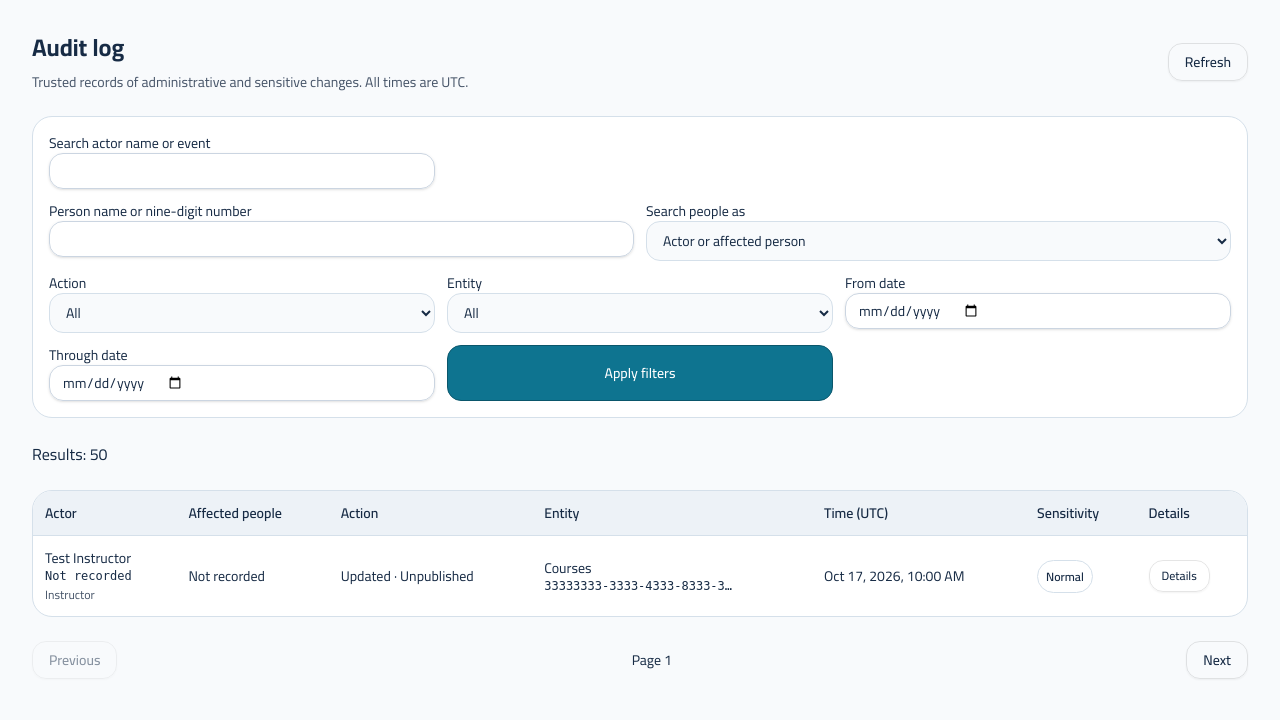
Test: audit review UI › filters on the server and resets pagination without fetching all rows
Check: the text "Test Instructor" is shown, box top-left (45, 545), bottom-right (131, 571)
Click the button "Next". click: (1217, 660)
box: top-left (1186, 641), bottom-right (1248, 679)
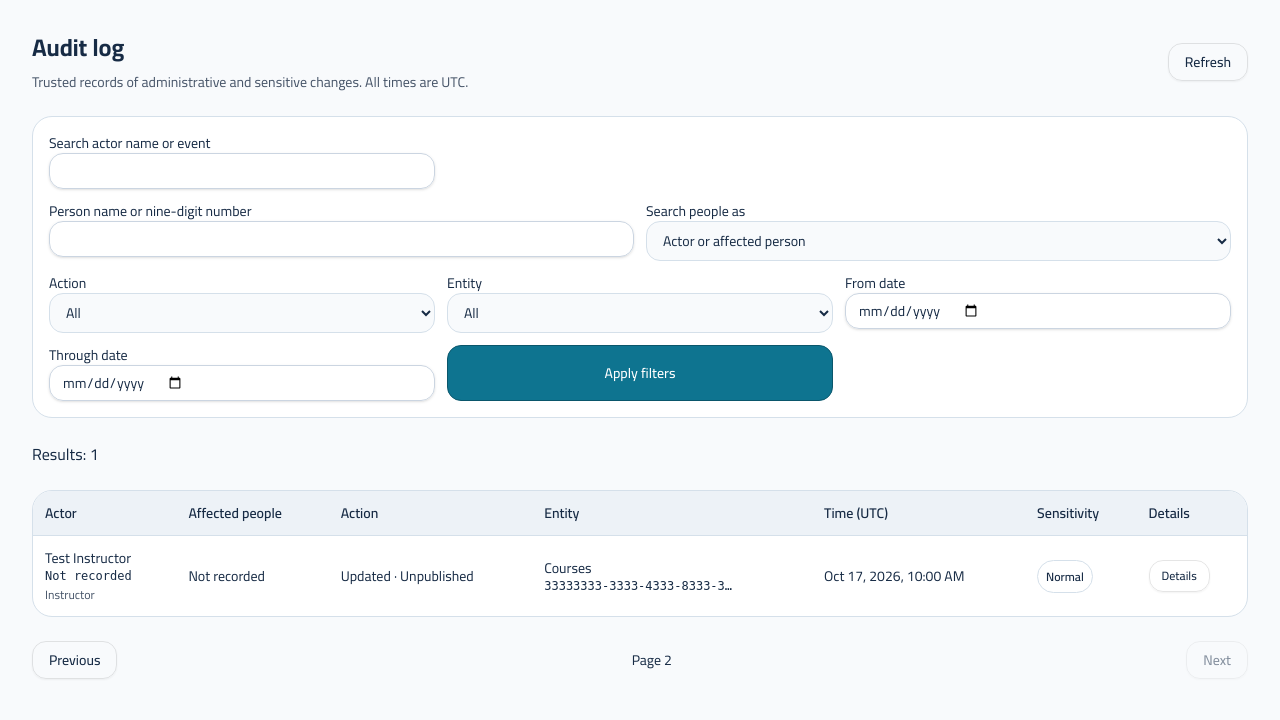
Check: the text "Test Instructor" is shown, box top-left (45, 545), bottom-right (131, 571)
Select "Deleted" in the dropdown labelled "Action". click: (242, 313)
box: top-left (49, 293), bottom-right (435, 333)
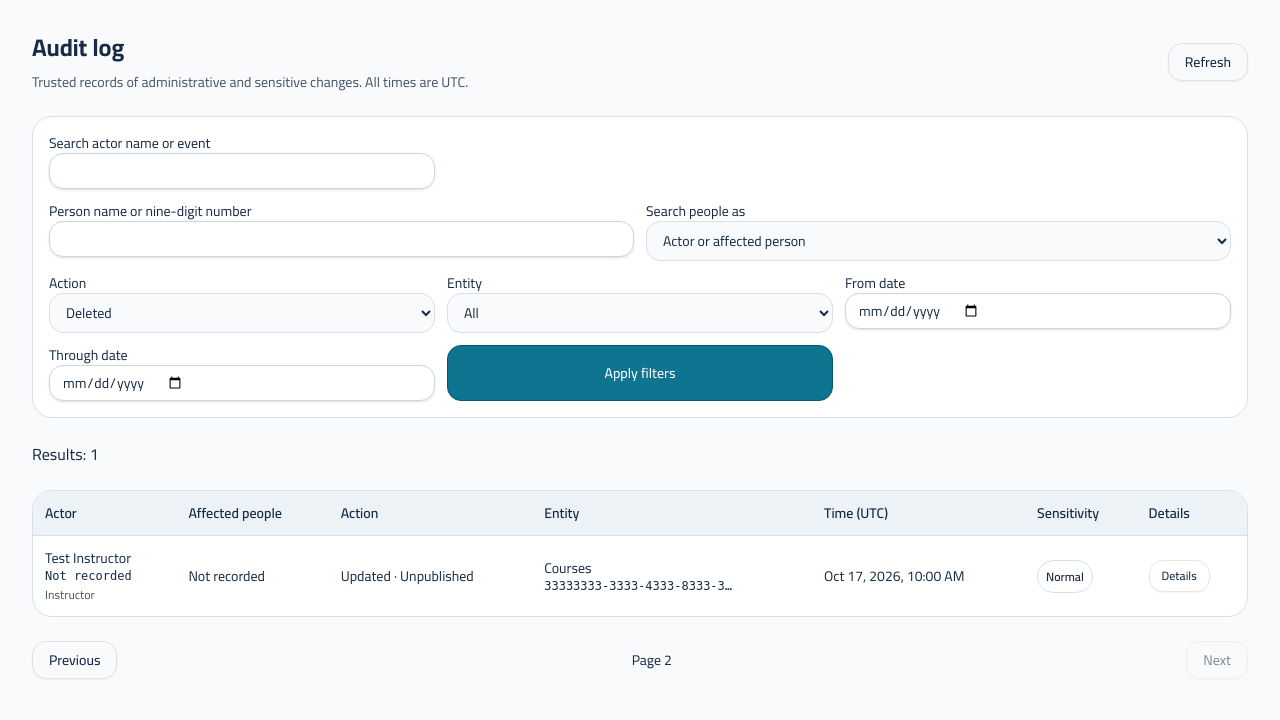
Type "Instructor" into the field labelled "Search actor name or event". click: (242, 171)
box: top-left (49, 153), bottom-right (435, 189)
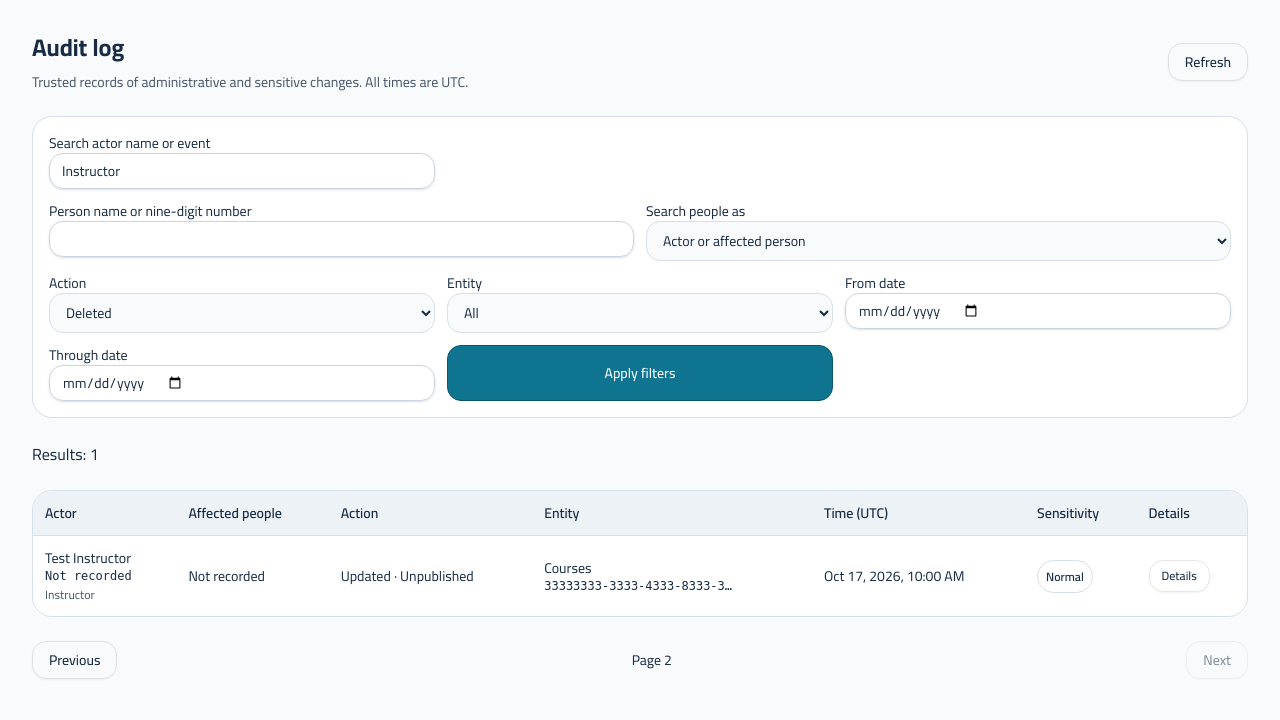
Click the button "Apply filters". click: (640, 373)
box: top-left (447, 345), bottom-right (833, 401)
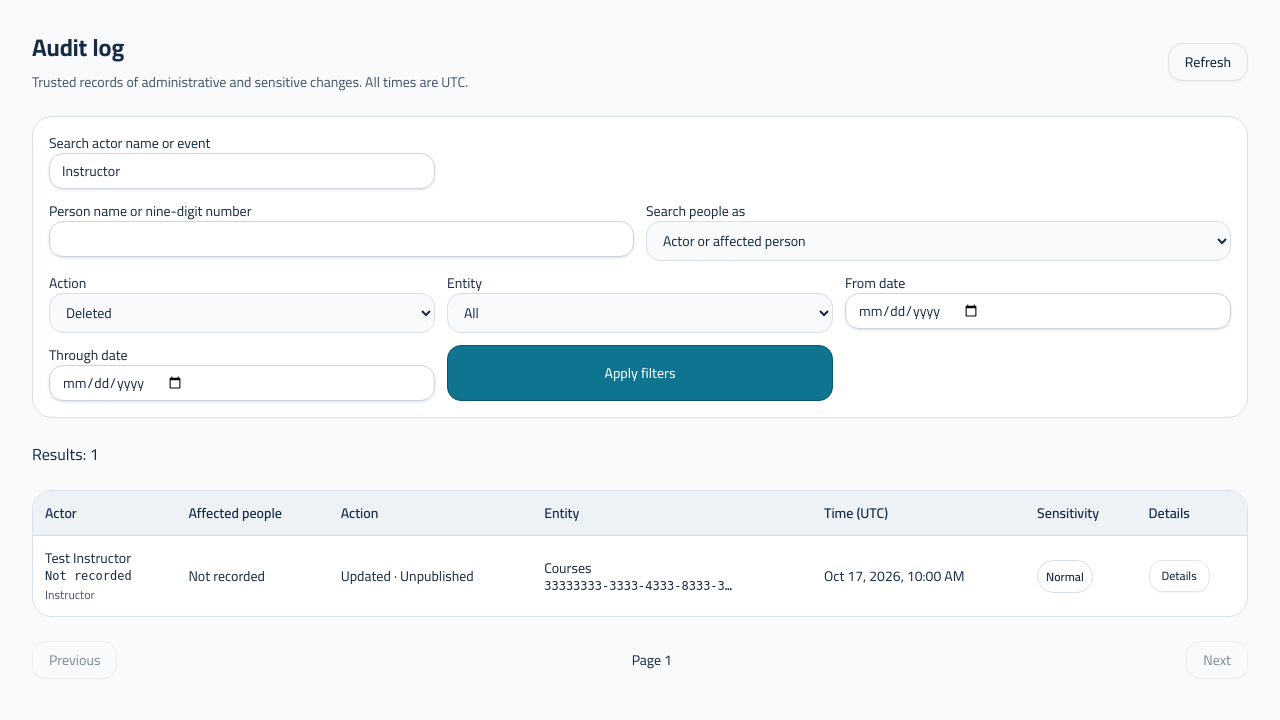
Check: the text "Page 1" is shown, box top-left (632, 650), bottom-right (672, 670)
